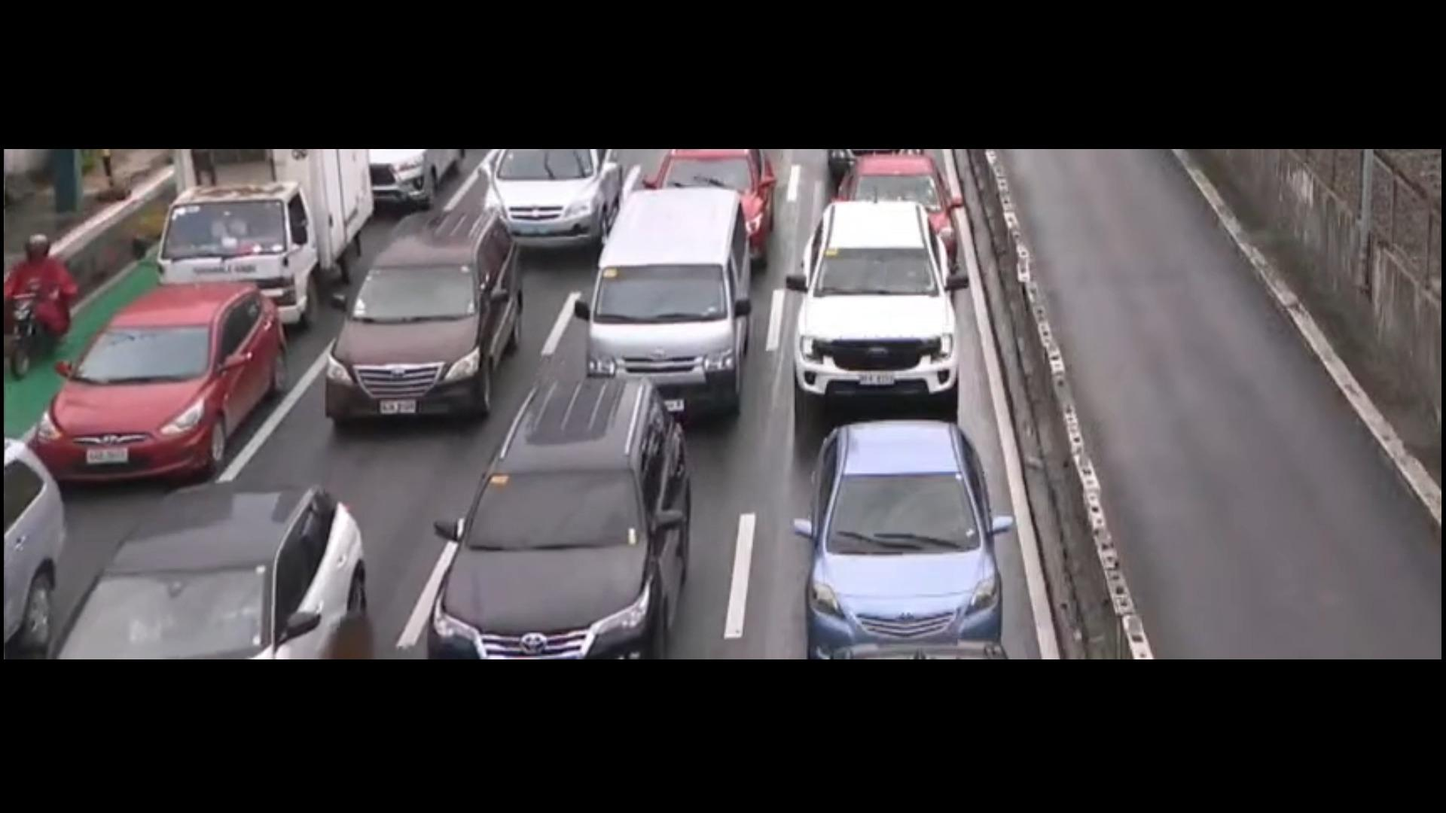Motorcycle: (6, 233, 80, 379)
SUV: (423, 373, 690, 661), (46, 480, 368, 667), (324, 209, 520, 430), (790, 199, 961, 422), (481, 148, 622, 247)
Sedan: (33, 282, 291, 488), (806, 418, 1006, 655), (832, 159, 964, 260)
Truck: (158, 149, 378, 322)
Van: (585, 187, 749, 417)
